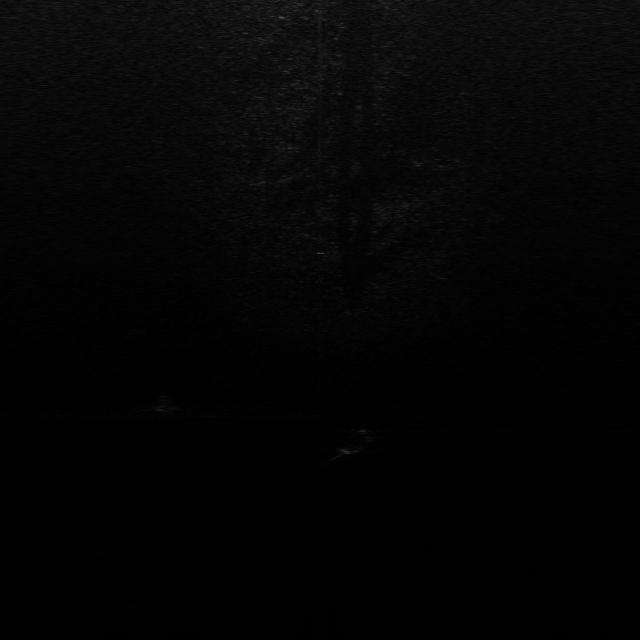ball: (150, 394, 182, 413)
circle cage: (126, 317, 154, 335)
tyre: (336, 430, 376, 452)
